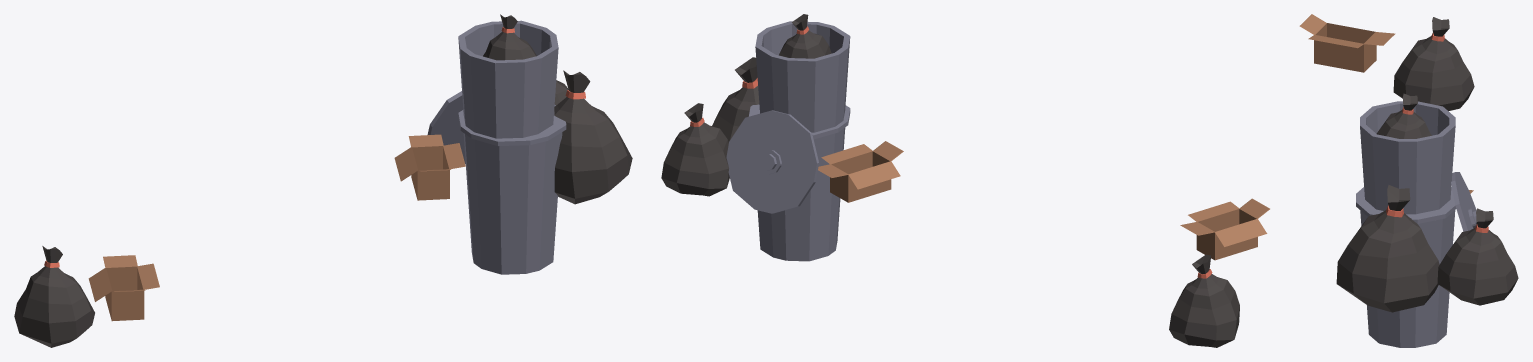
The model's file is Trash.fbx.
3 views of the same model, side by side, from view 1: azimuth 30°, elevation 25°; view 2: azimuth 150°, elevation 25°; view 3: azimuth 270°, elevation 25° (orthographic). The views are drawn at different scales.
Visible parts, largest first — view 1: Cube, Cube.001, Saco de lixo.002, Saco de lixo.003, Cube.003, Cube.002, Saco de lixo.001; view 2: Cube.001, Cube, Saco de lixo.003, Saco de lixo, Cube.003, Cube.002, Saco de lixo.002, Saco de lixo.001; view 3: Cube.001, Saco de lixo.002, Cube, Saco de lixo, Saco de lixo.003, Cube.003, Saco de lixo.001.
Boxes of the visible parts, x1,y1,x2,y2 form: Cube: [458, 105, 566, 274]; Cube.001: [427, 20, 558, 163]; Saco de lixo.002: [554, 70, 632, 204]; Saco de lixo.003: [14, 246, 94, 347]; Cube.003: [88, 255, 159, 321]; Cube.002: [394, 134, 465, 200]; Saco de lixo.001: [483, 14, 536, 60]; Cube.001: [726, 21, 850, 213]; Cube: [749, 104, 850, 261]; Saco de lixo.003: [1169, 254, 1239, 347]; Saco de lixo: [661, 103, 729, 196]; Cube.003: [1180, 198, 1269, 260]; Cube.002: [818, 141, 903, 202]; Saco de lixo.002: [712, 57, 759, 142]; Saco de lixo.001: [779, 14, 831, 58]; Cube.001: [1360, 101, 1476, 231]; Saco de lixo.002: [1336, 185, 1439, 312]; Cube: [1356, 187, 1456, 347]; Saco de lixo: [1437, 208, 1518, 305]; Saco de lixo.003: [1393, 17, 1474, 111]; Cube.003: [1299, 14, 1395, 72]; Saco de lixo.001: [1376, 93, 1431, 138].
Size of the model in its own units: 834 by 332 by 282.
